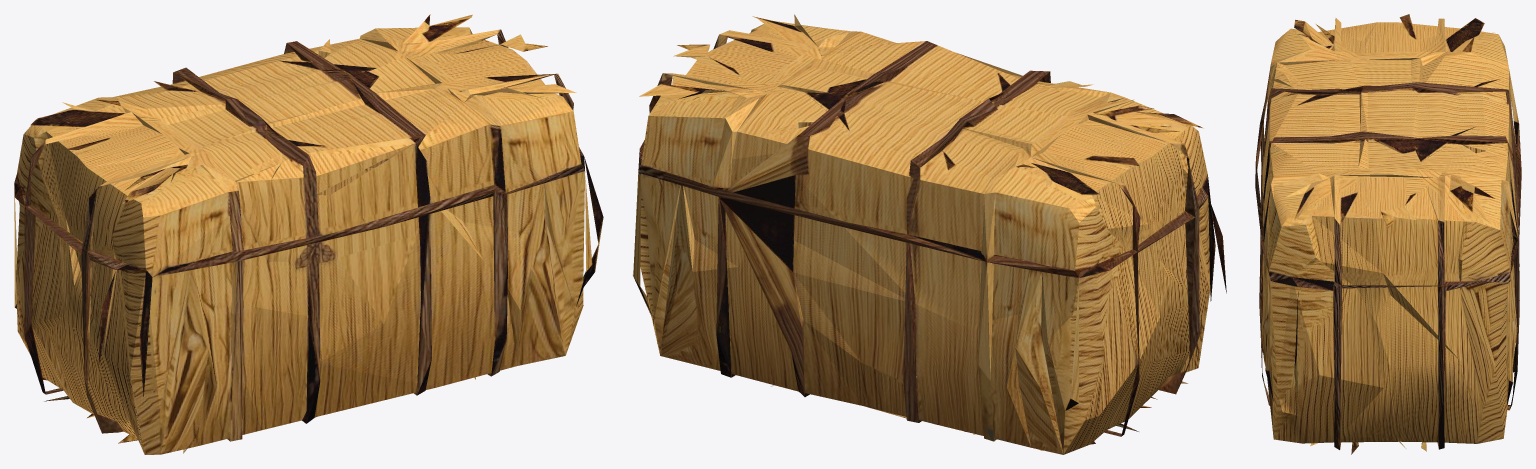
Rendered from hay-bale.glb.
3 views of the same model, side by side, from view 1: azimuth 30°, elevation 25°; view 2: azimuth 150°, elevation 25°; view 3: azimuth 270°, elevation 25° (orthographic). The views are drawn at different scales.
Bounding box in the file's own units: 0.9 × 0.45 × 0.45.
Materials: 1 (1 with a texture image).
